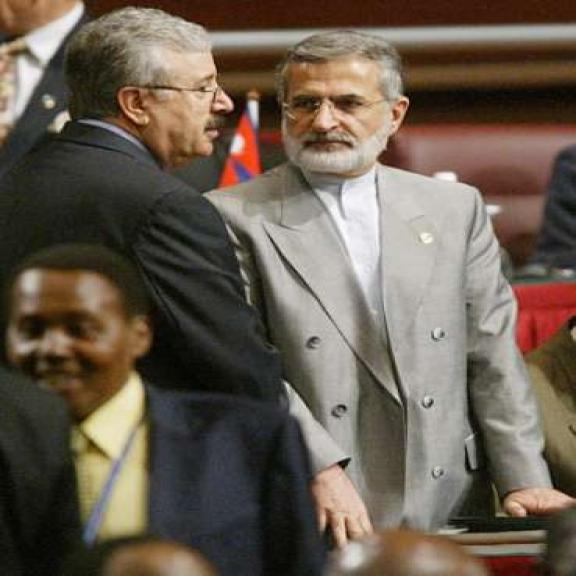face: (12, 273, 149, 416), (285, 50, 410, 177), (124, 41, 234, 160)
